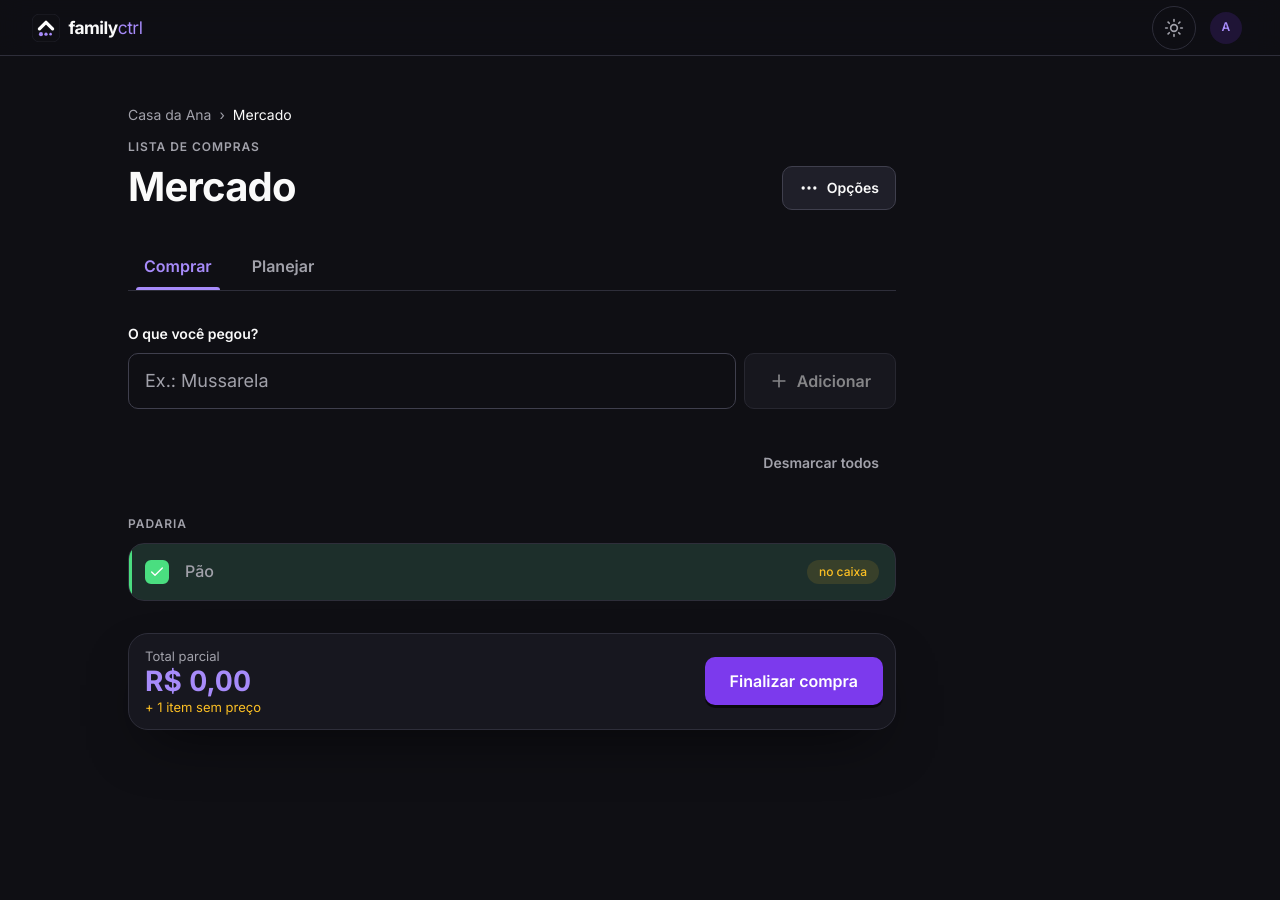
Scenario: comprar › desfaz o desmarcar se a API falhar
This screenshot has width=1280, height=900.
What coordinates should you click on to do the following:
click the checkbox named "Desmarcar Pão"
I would click on:
 (157, 572)
Its box is [129,544,185,600].
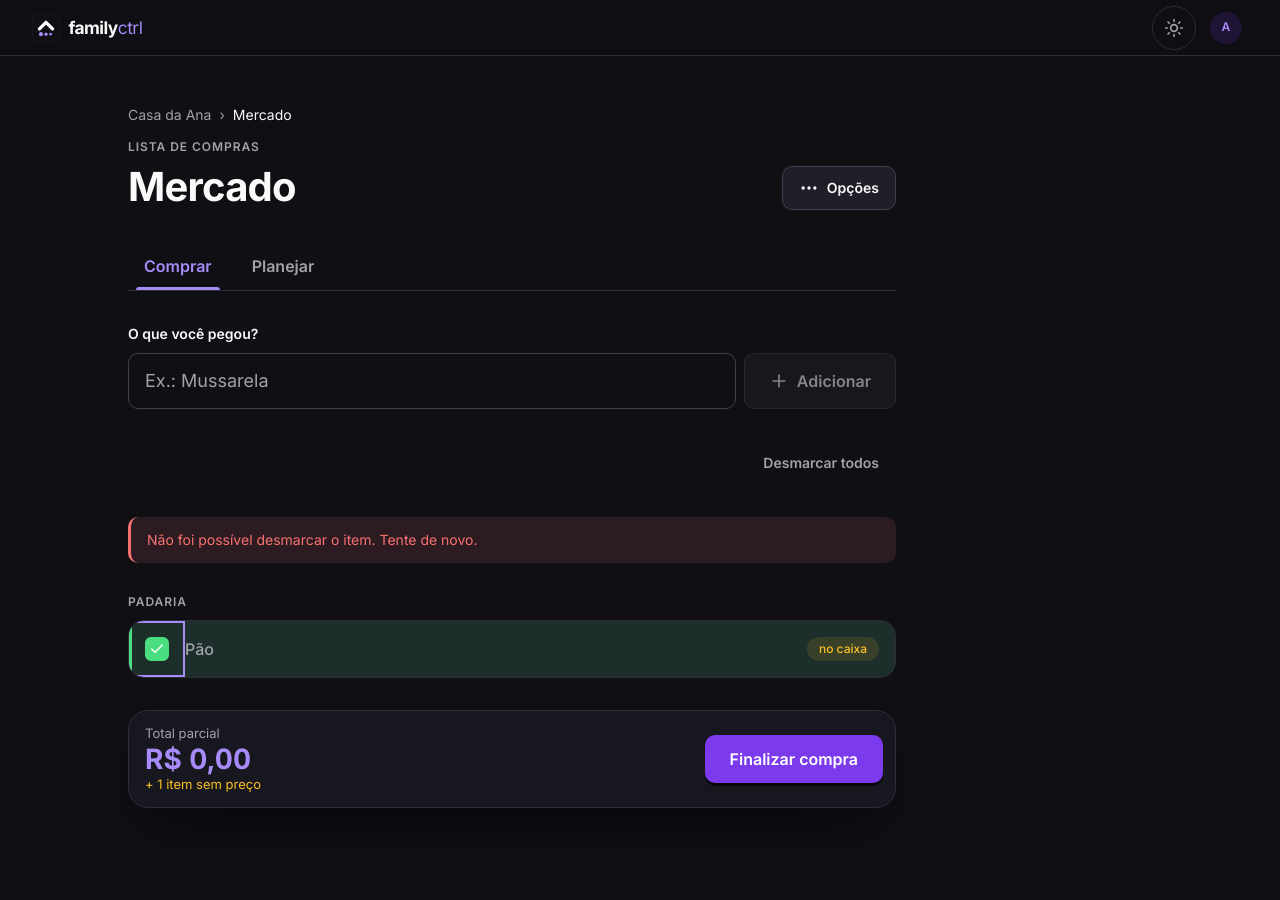
Expected: the text "Não foi possível desmarcar o item. Tente de novo." is shown, [128,517,896,563]
